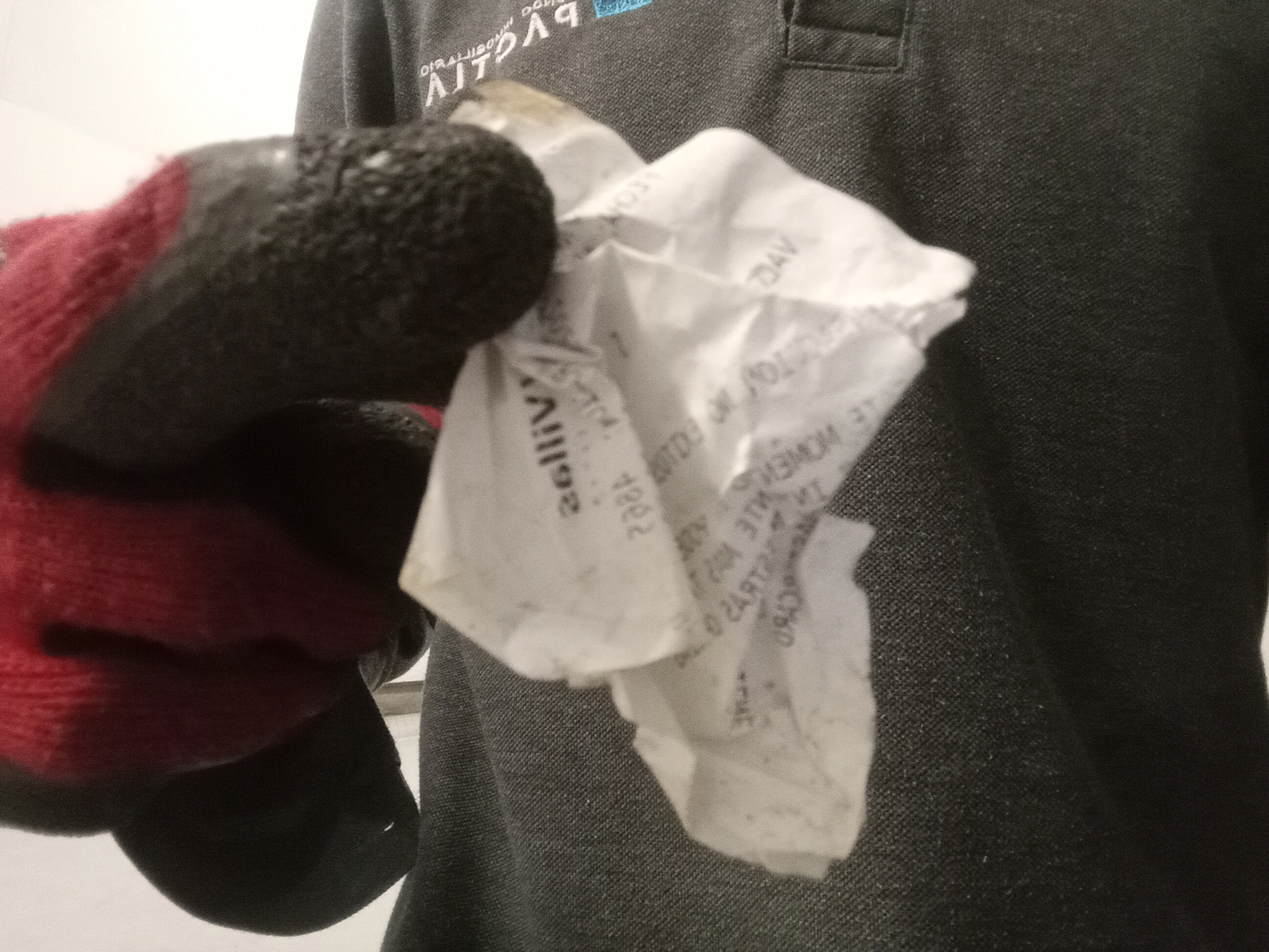Papel: (400, 77, 981, 883)
